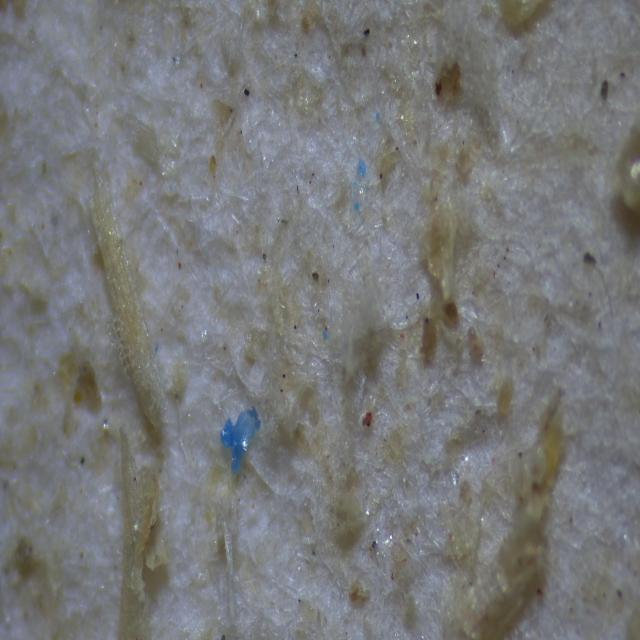microplastic: (207, 401, 268, 477), (355, 157, 369, 181), (373, 111, 382, 127), (320, 330, 330, 343), (354, 199, 360, 216)
